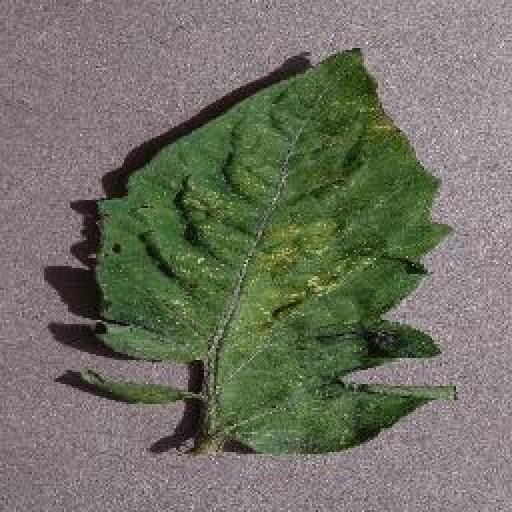Spider Mites: (91, 44, 459, 459)
